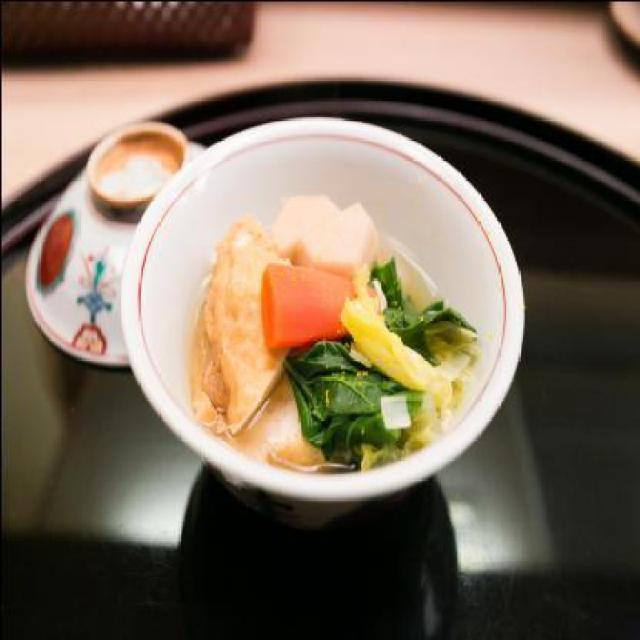Salad: (240, 176, 486, 472)
